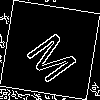M: (25, 25, 86, 86)
